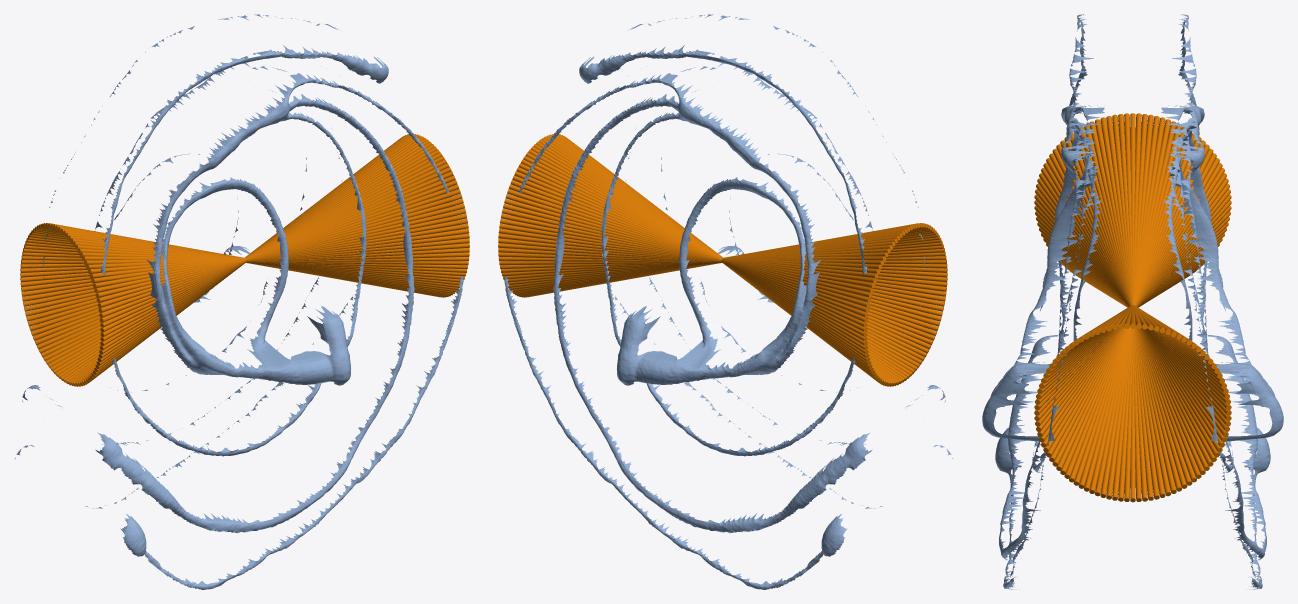
The model's file is A60026322_6150-37-520-2364_DigitalTwin.glb.
3 renders of one model, left to right at view 1: azimuth 30°, elevation 25°; view 2: azimuth 150°, elevation 25°; view 3: azimuth 270°, elevation 25°, orthographic. The views are drawn at different scales.
Visible parts, largest first — view 1: world; view 2: world; view 3: world.
Boxes of the visible parts, x1,y1,x2,y2 form: world: [15, 14, 469, 589]; world: [498, 14, 952, 589]; world: [982, 14, 1283, 589].
Bounding box in the file's own units: 354 × 453 × 213.
